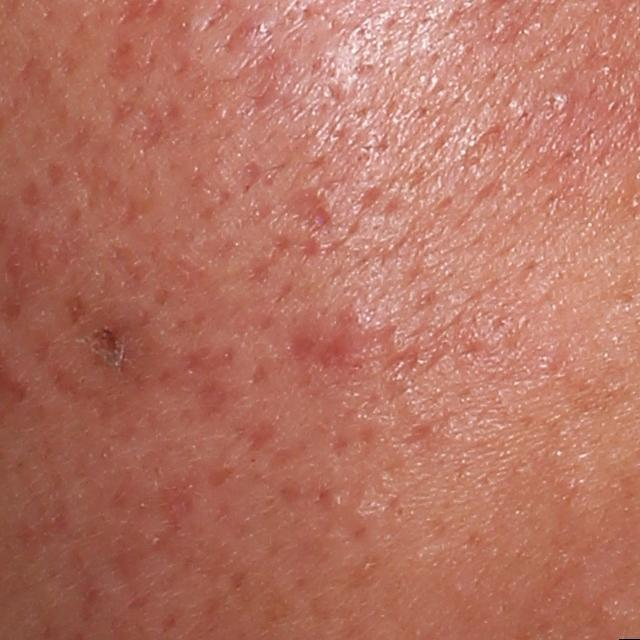atrophic_scar: (279, 299, 425, 409), (278, 190, 340, 234), (123, 104, 167, 157)
